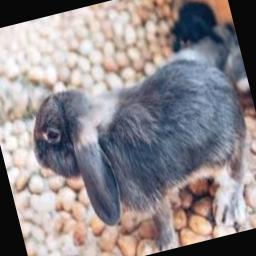rabbit: (32, 58, 247, 251)
